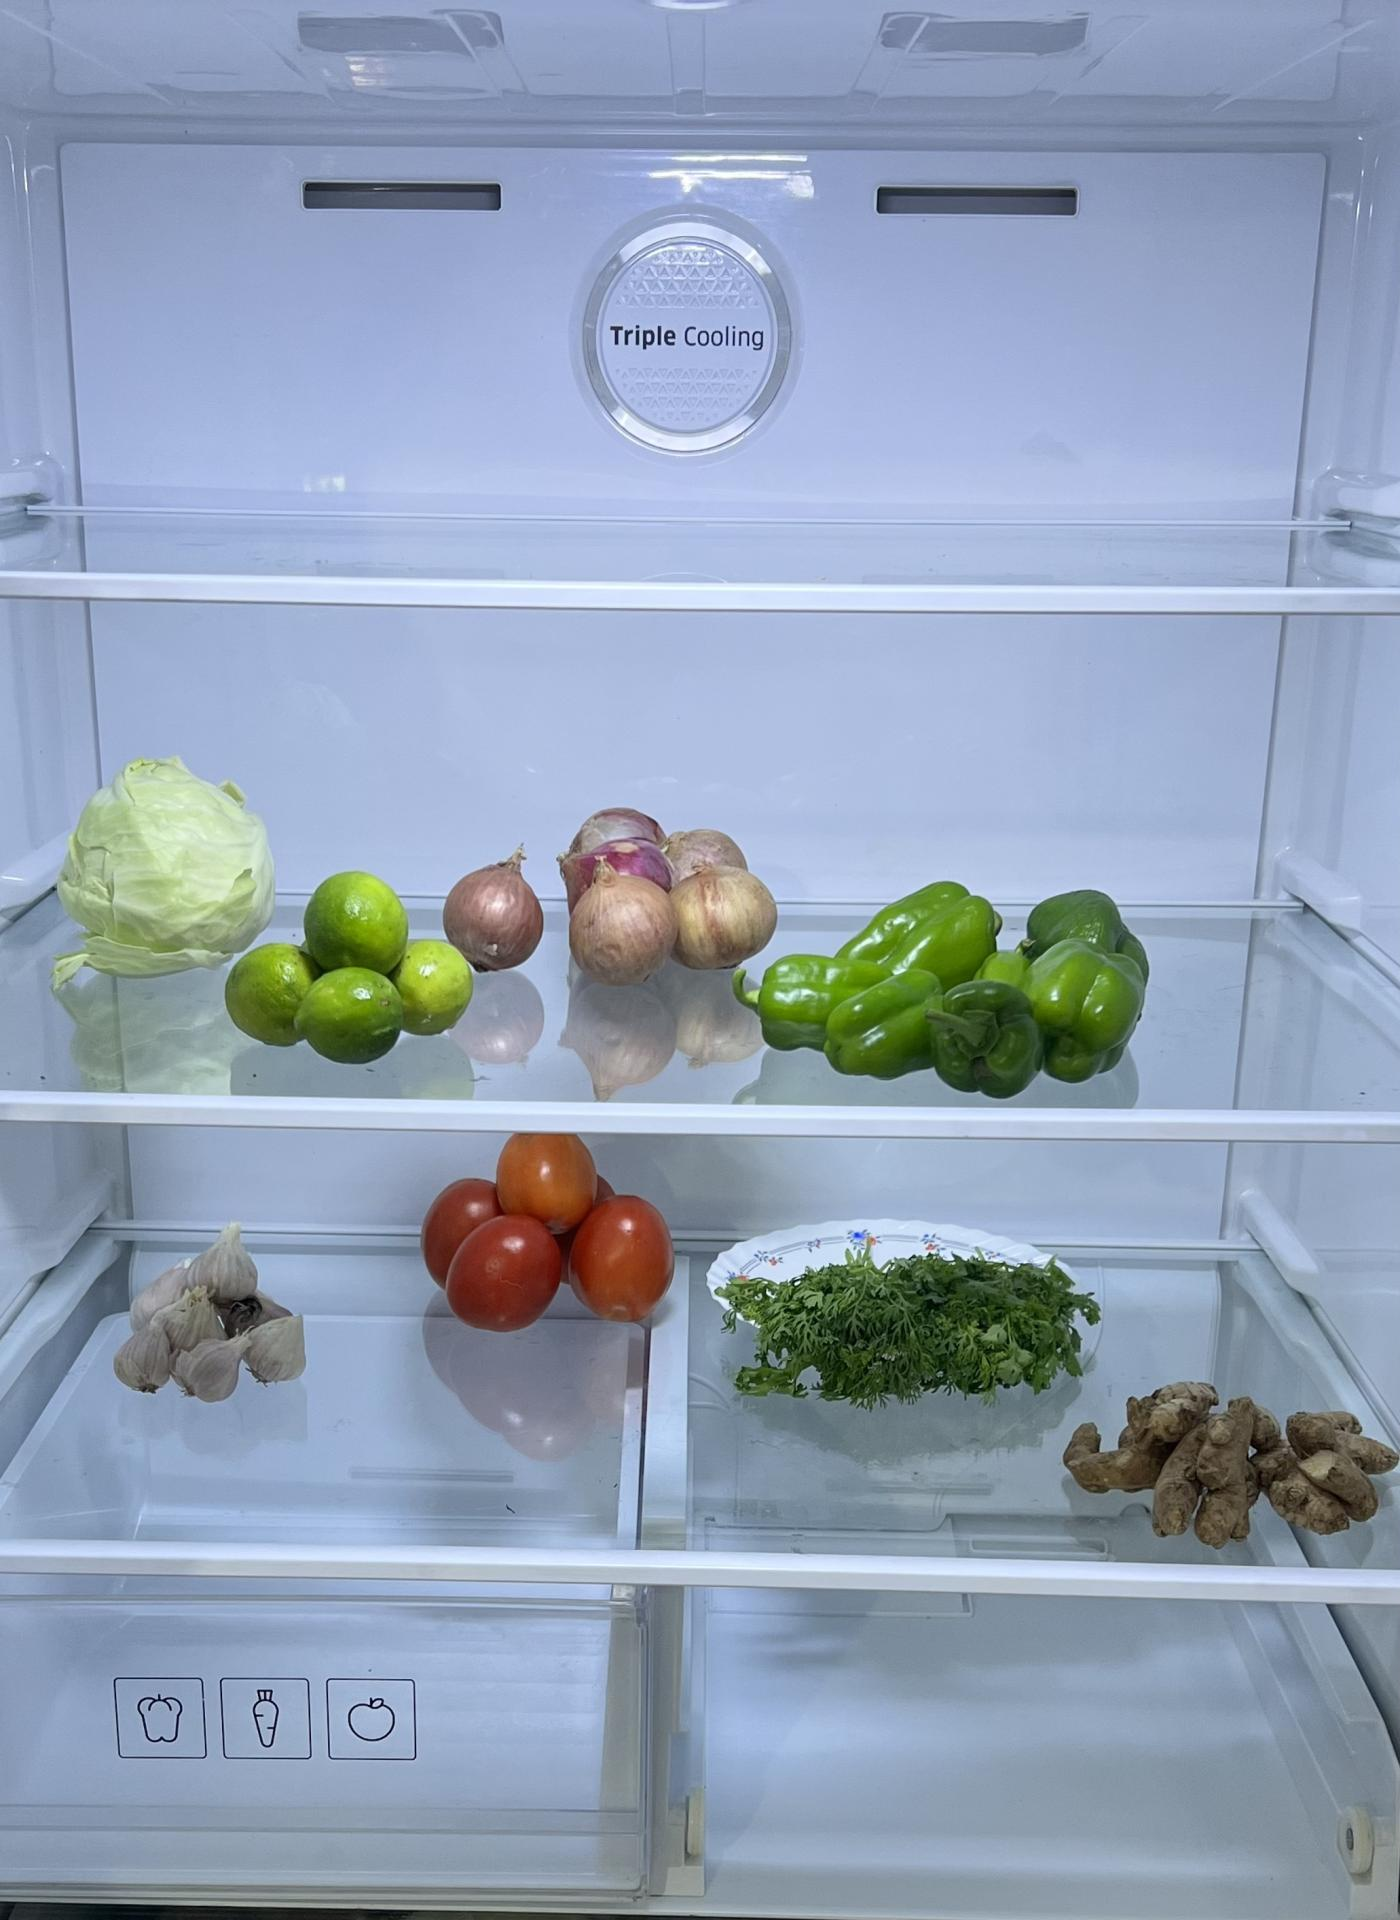cabbage: (58, 738, 270, 969)
capsicum: (741, 884, 1175, 1087)
coriander: (707, 1230, 1099, 1410)
garlic: (103, 1230, 313, 1407)
ginger: (1050, 1376, 1394, 1550)
lemon: (222, 871, 477, 1061)
onion: (446, 806, 778, 963)
tomato: (404, 1125, 683, 1333)
